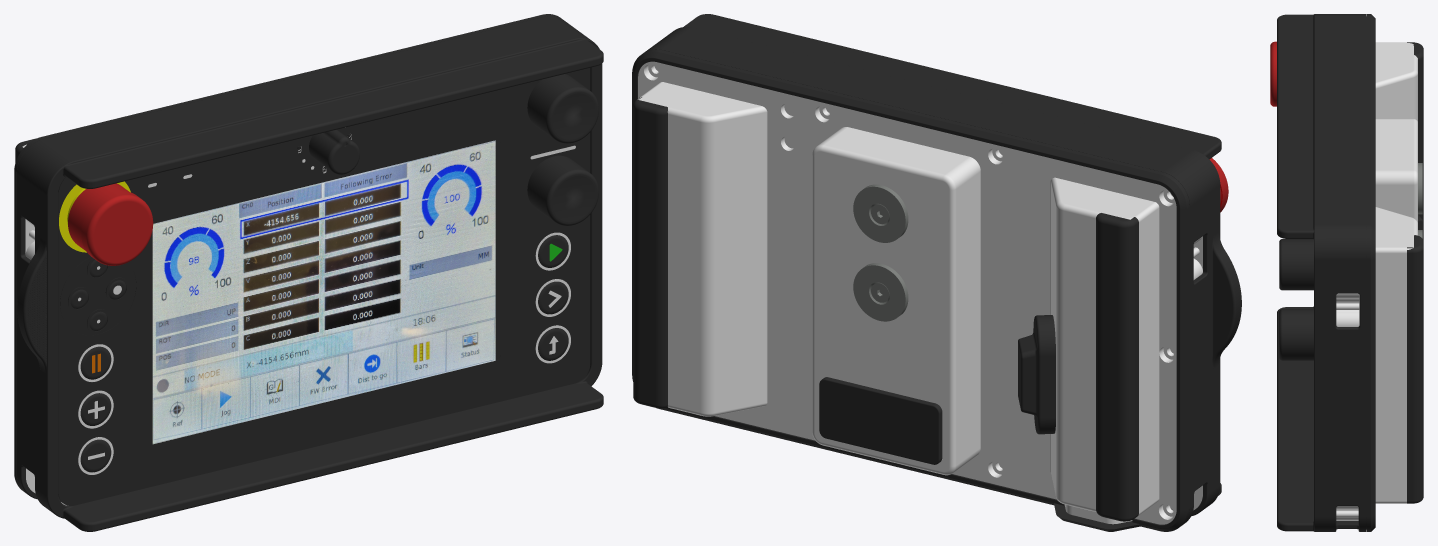
Rendered from remote.glb.
3 views of the same model, side by side, from view 1: azimuth 30°, elevation 25°; view 2: azimuth 150°, elevation 25°; view 3: azimuth 270°, elevation 25° (orthographic). The views are drawn at different scales.
Visible parts, largest first — view 1: remote, Schermo_R.000; view 2: remote; view 3: remote.
Boxes of the visible parts, x1=… form: remote: x1=14, y1=14, x2=603, y2=531; Schermo_R.000: x1=152, y1=140, x2=495, y2=444; remote: x1=632, y1=14, x2=1241, y2=531; remote: x1=1270, y1=14, x2=1423, y2=531.
Bounding box in the file's own units: 0.2306 × 0.1362 × 0.0622.
14 materials, 2 textured.
